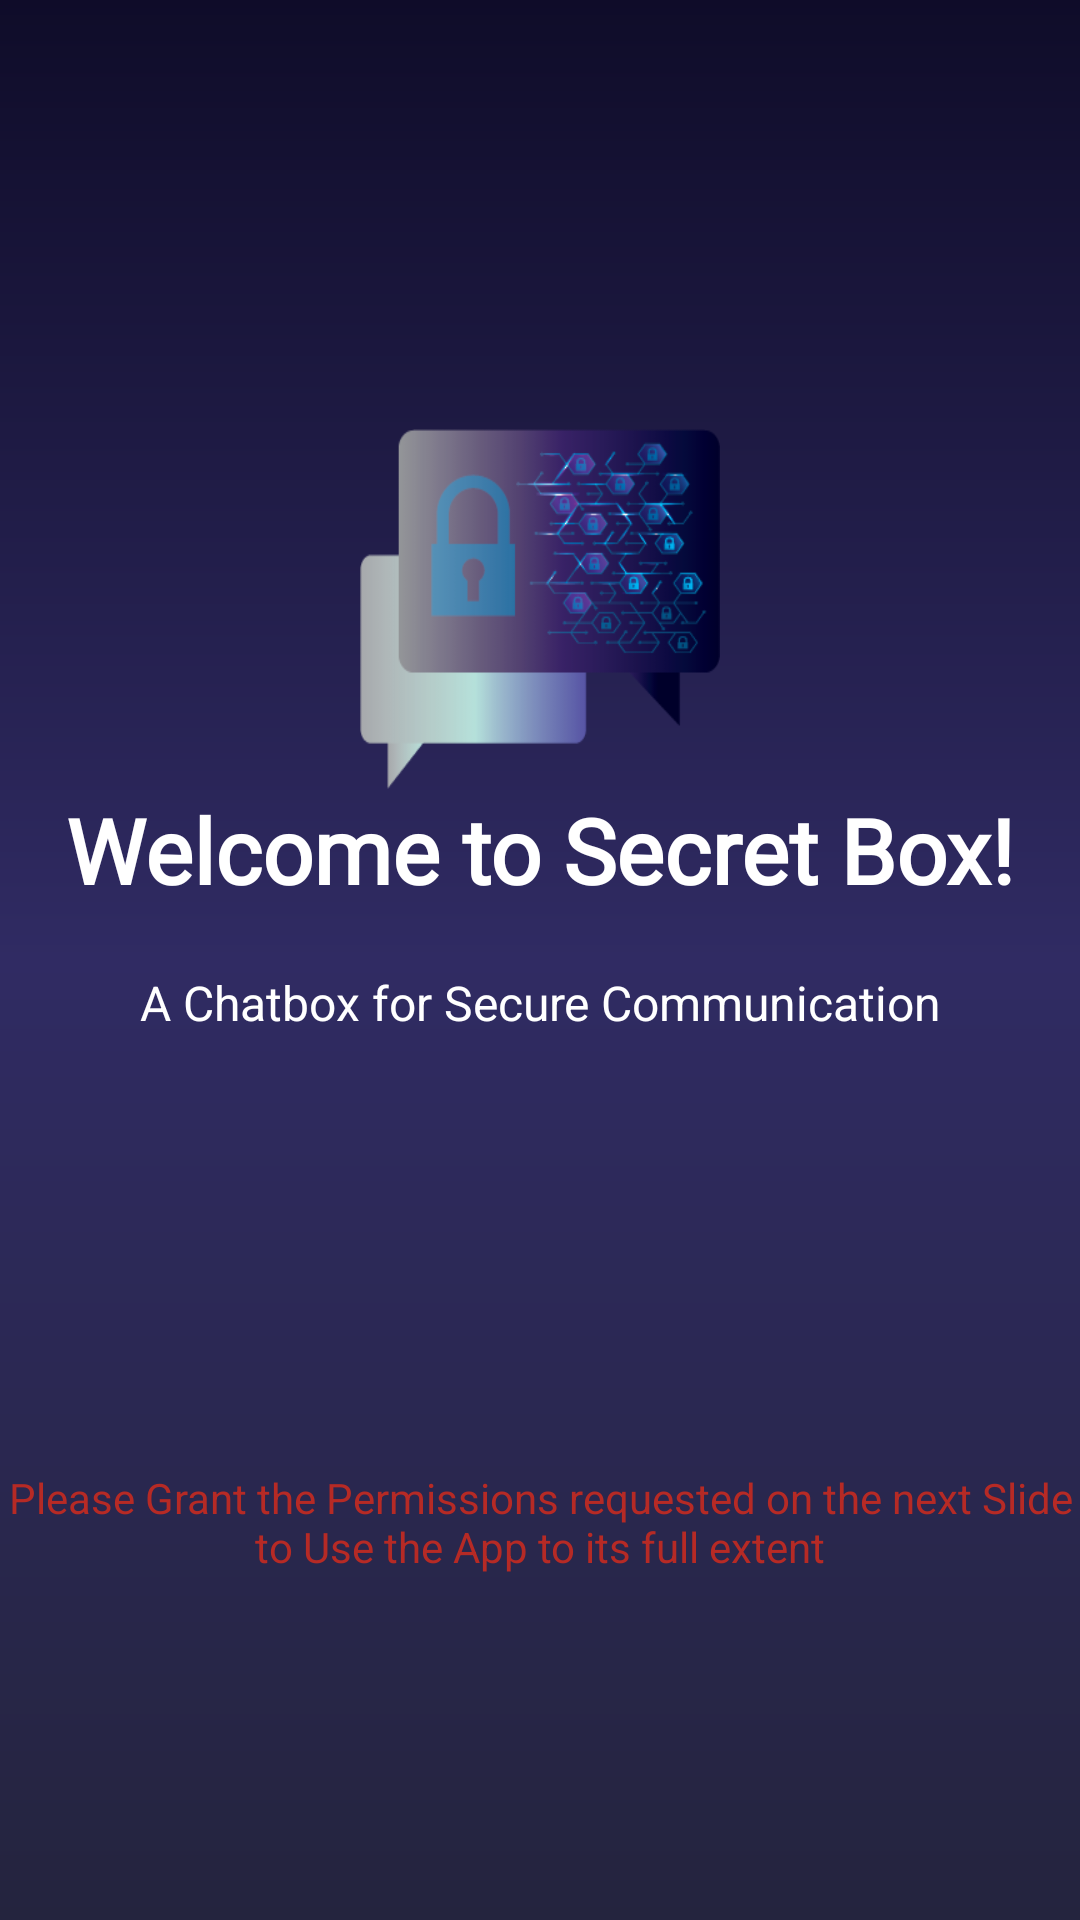

Icon click points for this 1080x1920 phone screenshot, format (x=x, y=y):
chatbubble: (x=539, y=609)
